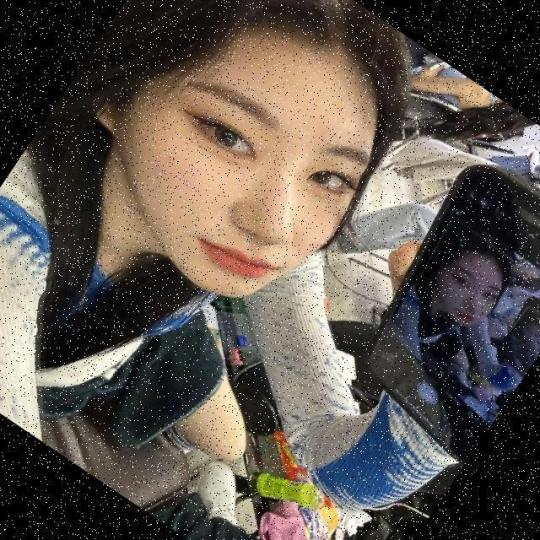phone: (362, 154, 538, 467)
